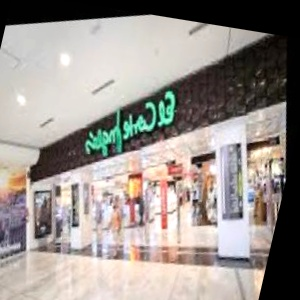corte_ingles: (92, 79, 283, 169)
